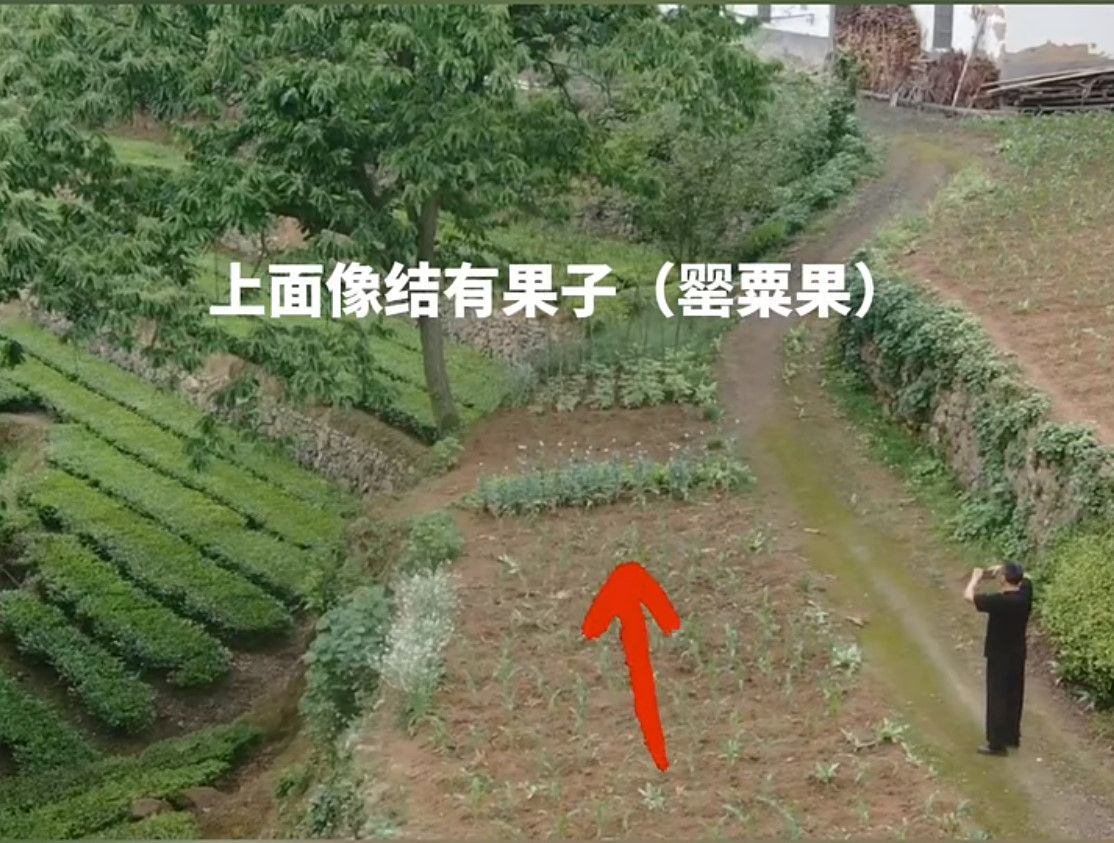Poppy: (459, 416, 751, 518)
